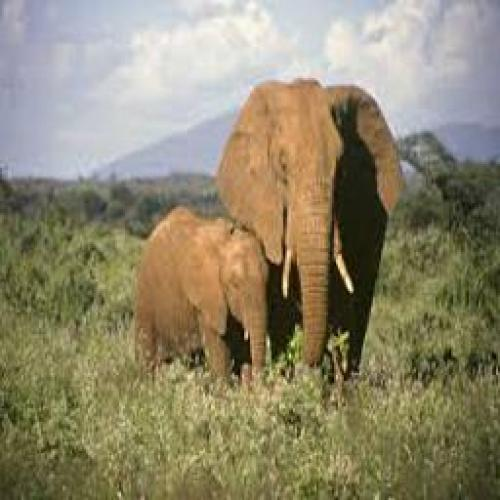african_elephant-endangered: (215, 79, 399, 382), (134, 209, 273, 384)
